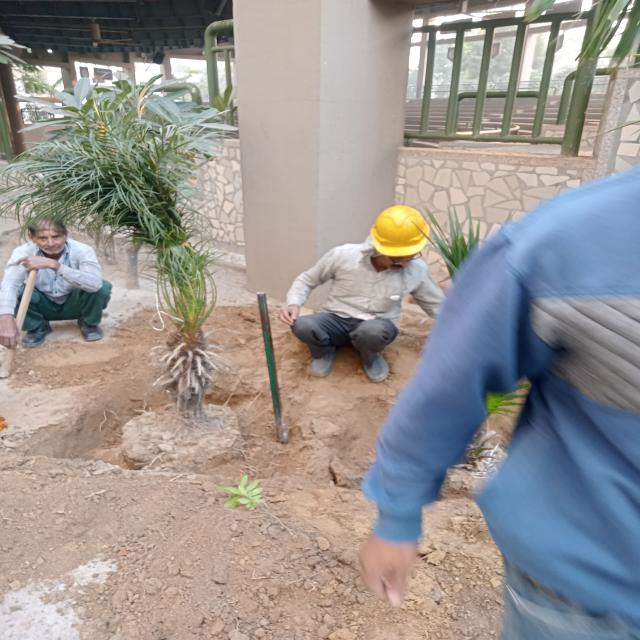no jacket: (282, 203, 434, 394)
unsafe: (5, 214, 118, 357)
